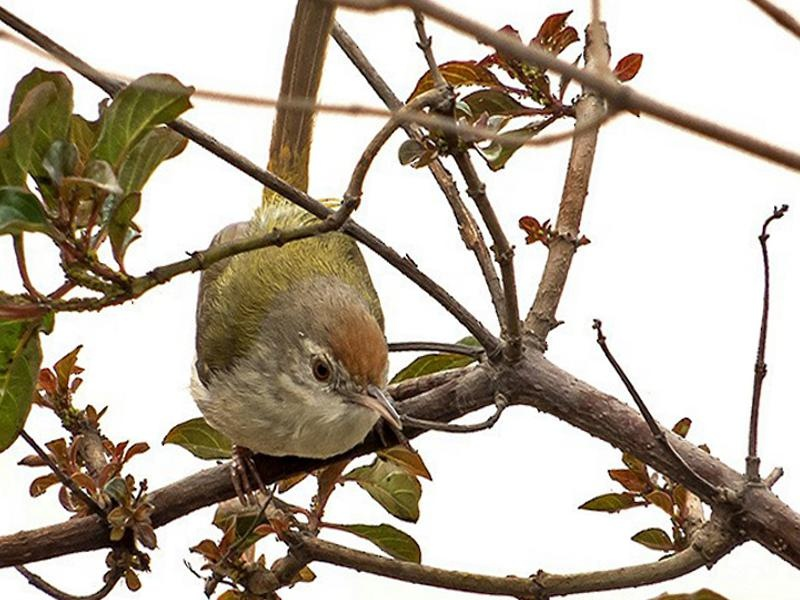tailorbird: (177, 115, 453, 477)
